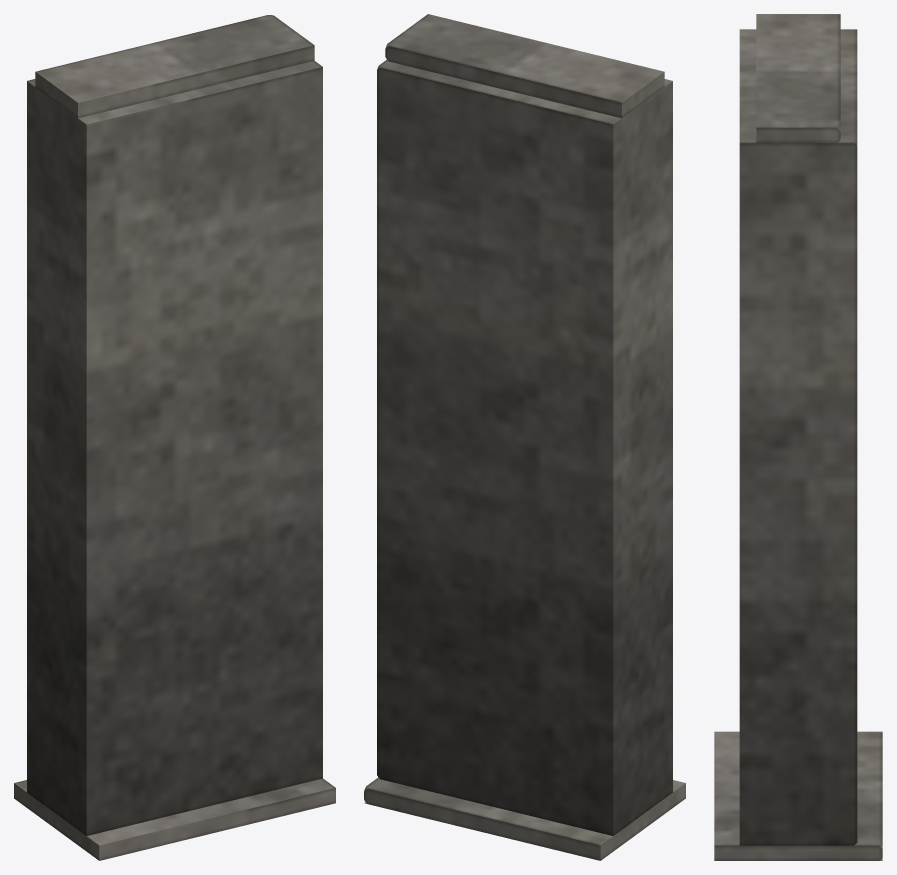
The model's file is barrier_tall.obj.
3 views of the same model, side by side, from view 1: azimuth 30°, elevation 25°; view 2: azimuth 150°, elevation 25°; view 3: azimuth 270°, elevation 25° (orthographic).
Visible parts, largest first — view 1: ny, nz, nx; view 2: ny, nz, nx; view 3: ny, nz, nx.
Part boxes in pixels (x1,y1,x2,y2): ny: (27,60,322,835); nz: (35,15,314,118); nx: (14,778,335,860); ny: (377,60,672,835); nz: (385,14,664,118); nx: (364,777,685,860); ny: (739,29,857,845); nz: (756,14,840,143); nx: (714,731,882,860).
Bounding box in the file's own units: 1 × 3 × 0.625.
Materials: 1 (1 with a texture image).
